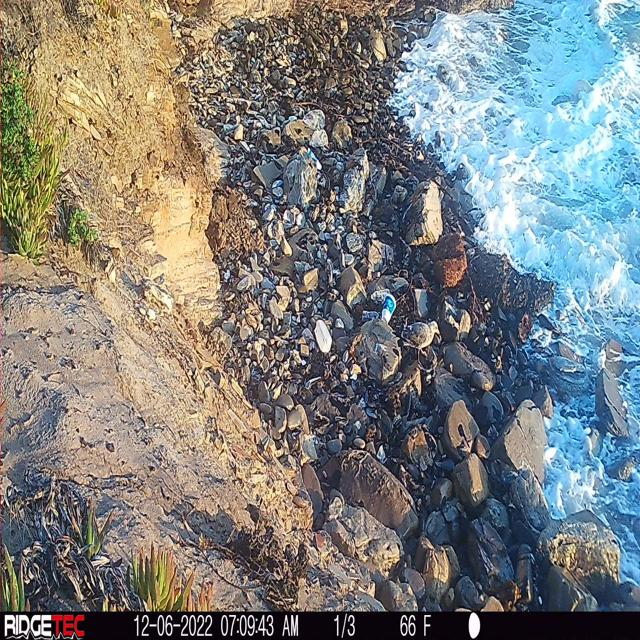bird: (396, 304, 443, 366)
